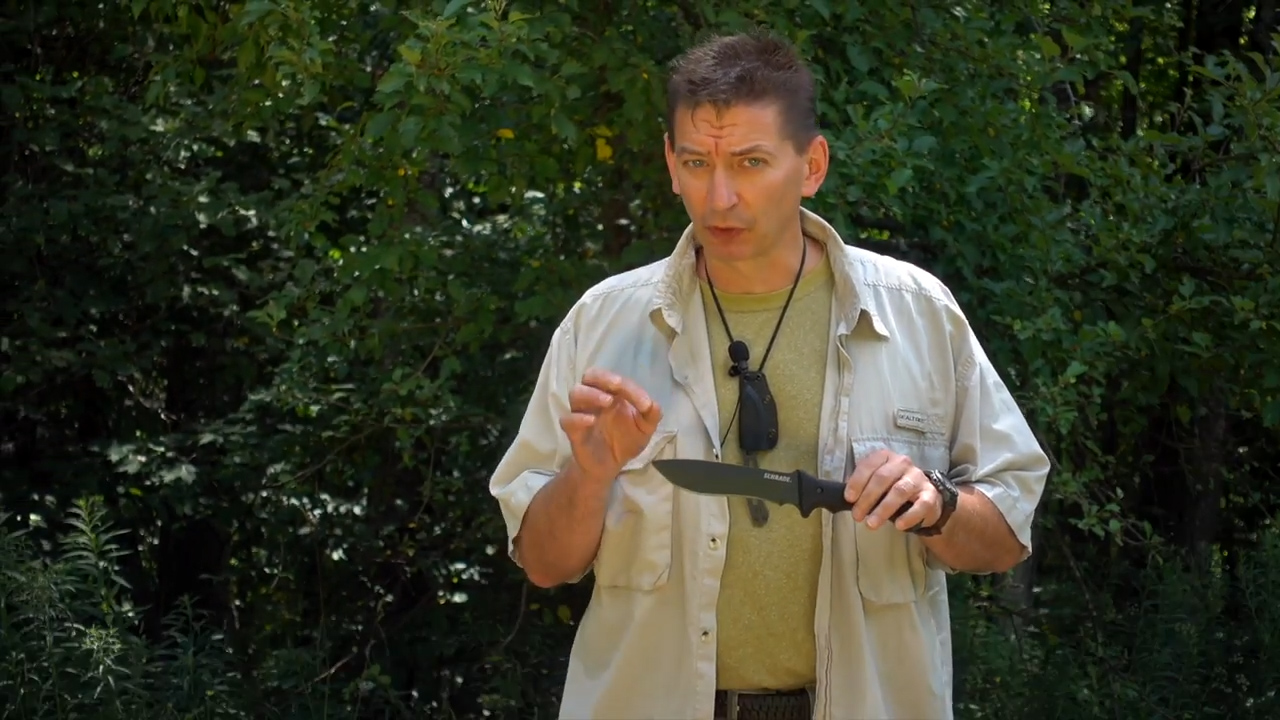knife: (649, 446, 914, 538)
